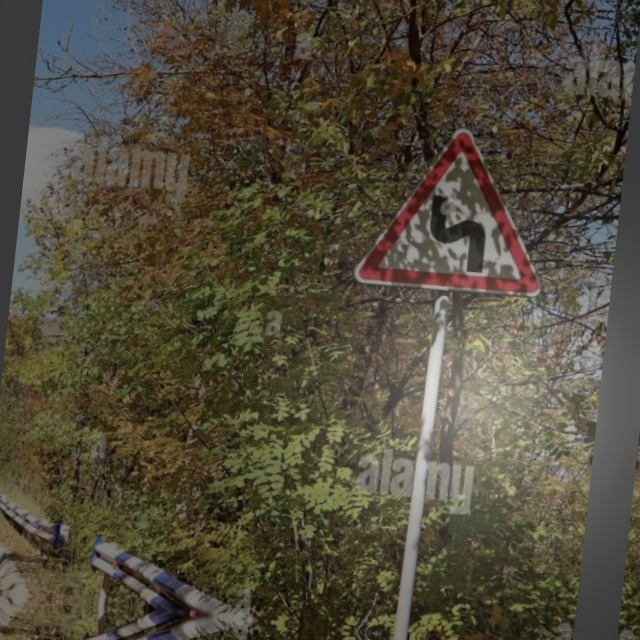Left_Reverse_Bend: (370, 134, 544, 296)
